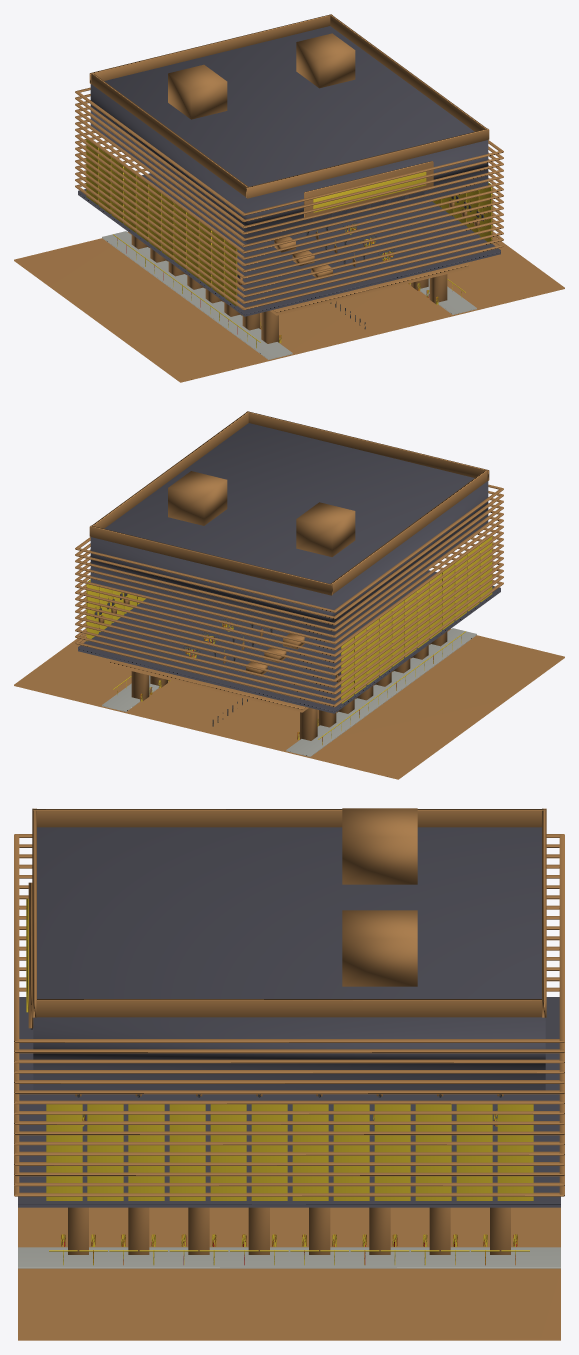
The picture shows the model from 3 angles, top to bottom: view 1: azimuth 30°, elevation 25°; view 2: azimuth 150°, elevation 25°; view 3: azimuth 270°, elevation 25°; orthographic projection. The views are drawn at different scales.
Visible parts, largest first — view 1: nakwon_hollywood_cinema_facade, nakwon_samil_daero_roadway, nakwon_musical_instrument_shops, nakwon_mega_piloti_and_ceiling; view 2: nakwon_hollywood_cinema_facade, nakwon_samil_daero_roadway, nakwon_musical_instrument_shops, nakwon_mega_piloti_and_ceiling; view 3: nakwon_hollywood_cinema_facade, nakwon_samil_daero_roadway, nakwon_musical_instrument_shops, nakwon_mega_piloti_and_ceiling.
Part boxes in pixels (x1=…): nakwon_hollywood_cinema_facade: x1=75, y1=14, x2=503, y2=310; nakwon_samil_daero_roadway: x1=14, y1=231, x2=564, y2=382; nakwon_musical_instrument_shops: x1=78, y1=139, x2=500, y2=316; nakwon_mega_piloti_and_ceiling: x1=131, y1=234, x2=468, y2=343; nakwon_hollywood_cinema_facade: x1=75, y1=411, x2=503, y2=707; nakwon_samil_daero_roadway: x1=14, y1=628, x2=564, y2=779; nakwon_musical_instrument_shops: x1=78, y1=536, x2=500, y2=713; nakwon_mega_piloti_and_ceiling: x1=110, y1=631, x2=447, y2=740; nakwon_hollywood_cinema_facade: x1=14, y1=808, x2=564, y2=1196; nakwon_samil_daero_roadway: x1=18, y1=1207, x2=560, y2=1340; nakwon_musical_instrument_shops: x1=18, y1=997, x2=560, y2=1207; nakwon_mega_piloti_and_ceiling: x1=68, y1=1207, x2=510, y2=1254.
Size of the model in its own units: 48 by 23 by 36.55.
4 materials, 4 textured.
